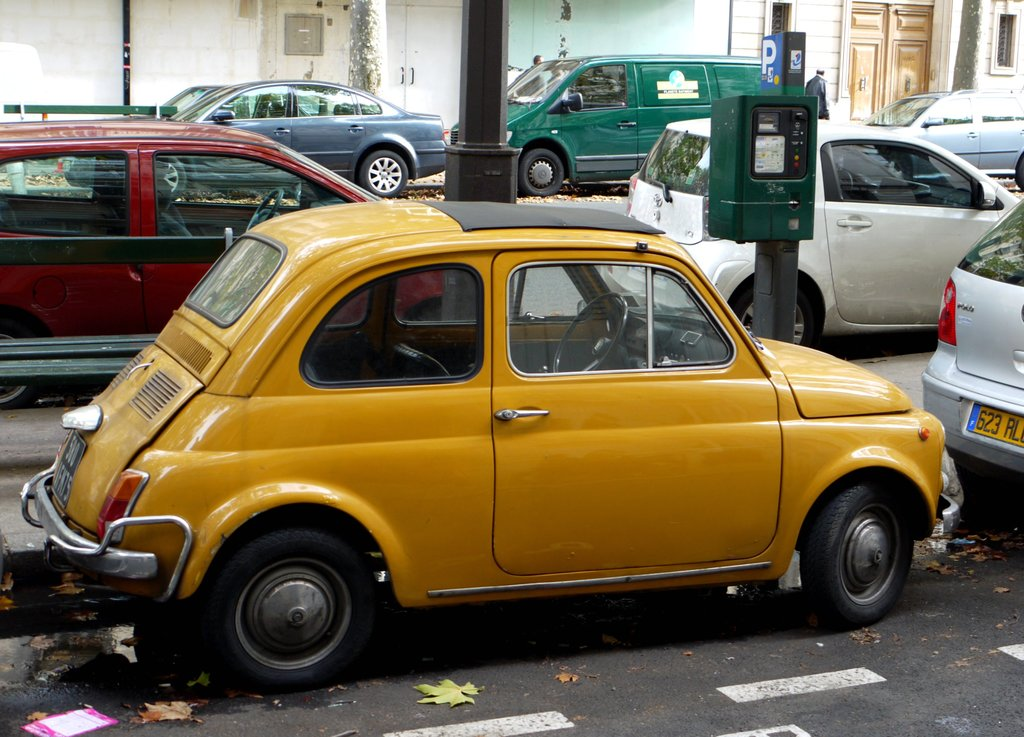mobil: (141, 206, 969, 706), (133, 77, 451, 202), (497, 66, 775, 208)
